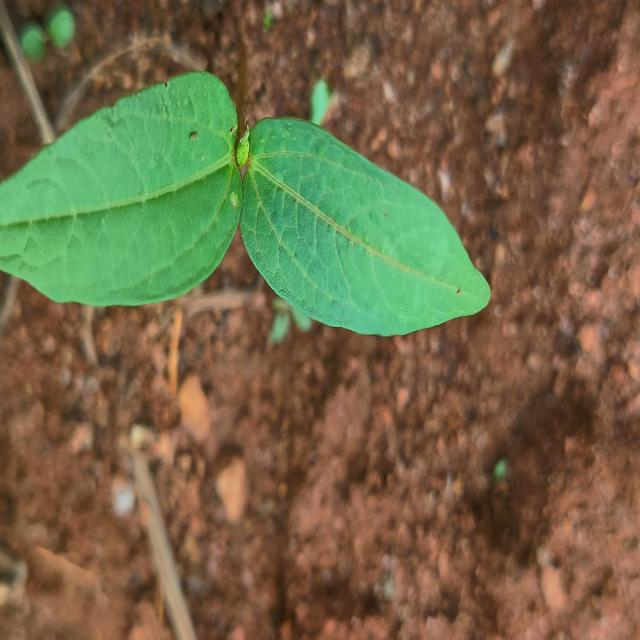Black gram_healthy: (237, 112, 495, 334), (0, 75, 239, 304)
